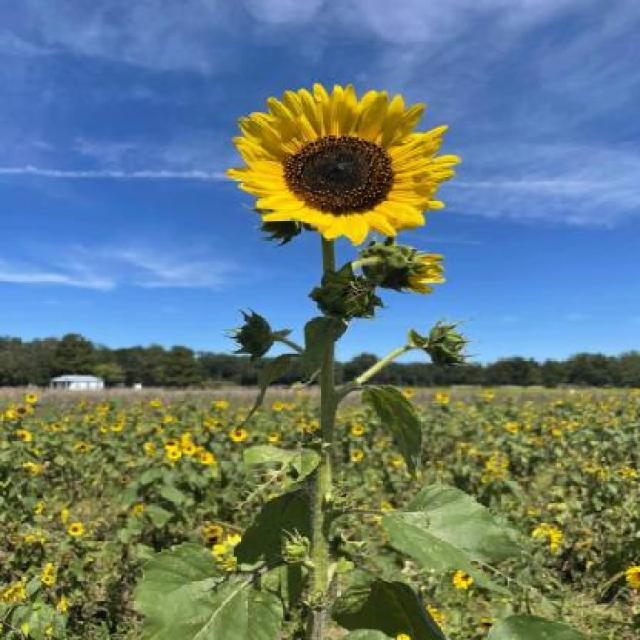sunflower: (211, 63, 471, 254)
